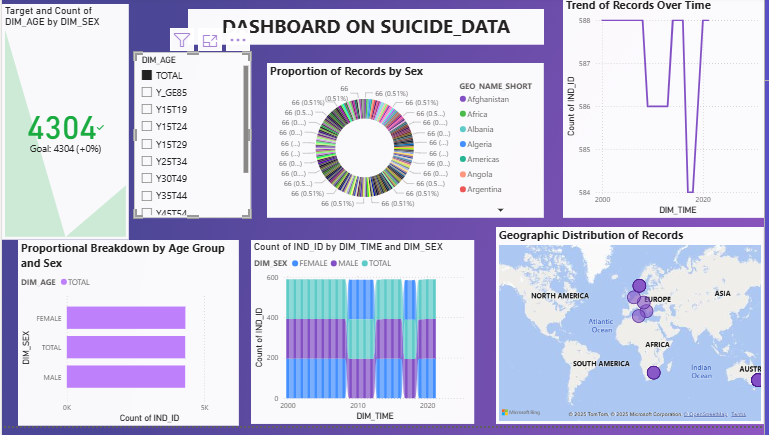

What the dashboard file says about the page in this screenshot:
{"tool":"powerbi","page":{"name":"Page 1","canvas":[1280,720],"ordinal":0},"visuals":[{"type":"textbox","box":[312.4,20.2,598,60.5],"z":0},{"type":"barChart","title":"Proportional Breakdown by Age Group and Sex","fields":{"Y":["CountNonNull(suicide_data.IND_ID)"],"Category":["suicide_data.DIM_SEX"],"Series":["suicide_data.DIM_AGE"]},"box":[0,426.7,374.6,294],"z":1000},{"type":"lineChart","title":"Trend of Records Over Time","fields":{"Category":["suicide_data.DIM_TIME"],"Y":["CountNonNull(suicide_data.IND_ID)"]},"box":[954.1,20.2,325.9,394.8],"z":2000},{"type":"map","title":"Geographic Distribution of Records","fields":{"Size":["CountNonNull(suicide_data.IND_ID)"],"Category":["suicide_data.DIM_TIME"]},"box":[838,385.8,442.3,334.2],"z":3000},{"type":"donutChart","title":"Proportion of Records by Sex","fields":{"Y":["CountNonNull(suicide_data.IND_ID)"],"Category":["suicide_data.GEO_NAME_SHORT"]},"box":[483.8,94.1,455.2,292.3],"z":4000},{"type":"ribbonChart","title":"Records according to time and sex","fields":{"Category":["suicide_data.DIM_TIME"],"Y":["CountNonNull(suicide_data.IND_ID)"],"Series":["suicide_data.DIM_SEX"]},"box":[388,414.9,446.8,305.7],"z":5000},{"type":"kpi","fields":{"Indicator":["suicide_data.Target"],"TrendLine":["suicide_data.DIM_SEX"],"Goal":["CountNonNull(suicide_data.DIM_AGE)"]},"box":[0,0,240.2,414.9],"z":6001},{"type":"slicer","fields":{"Values":["suicide_data.DIM_AGE"]},"box":[258,118,196.6,277.7],"z":6002}]}

Visuals, with their boxes in screenshot pixels (x1, y1, x2, y2), scaled from the page's 1280x720 canvas onto the 769x435 screenshot:
textbox: box(188, 12, 547, 49)
"Proportional Breakdown by Age Group and Sex" barChart: box(0, 258, 225, 434)
"Trend of Records Over Time" lineChart: box(573, 12, 768, 251)
"Geographic Distribution of Records" map: box(503, 233, 768, 434)
"Proportion of Records by Sex" donutChart: box(291, 57, 564, 233)
"Records according to time and sex" ribbonChart: box(233, 251, 502, 434)
kpi - suicide_data.Target x suicide_data.DIM_SEX: box(0, 0, 144, 251)
slicer - suicide_data.DIM_AGE: box(155, 71, 273, 239)
